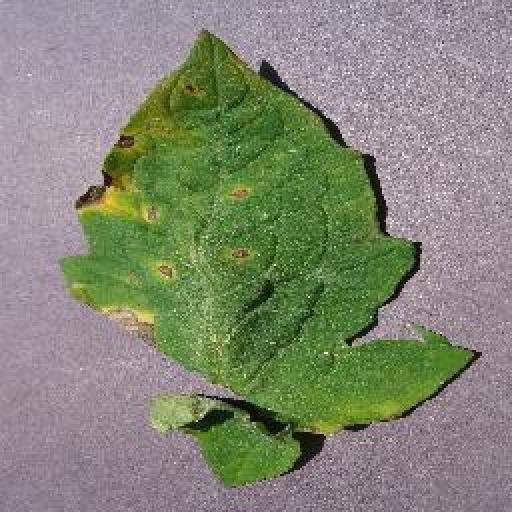Septoria: (55, 25, 475, 488)
